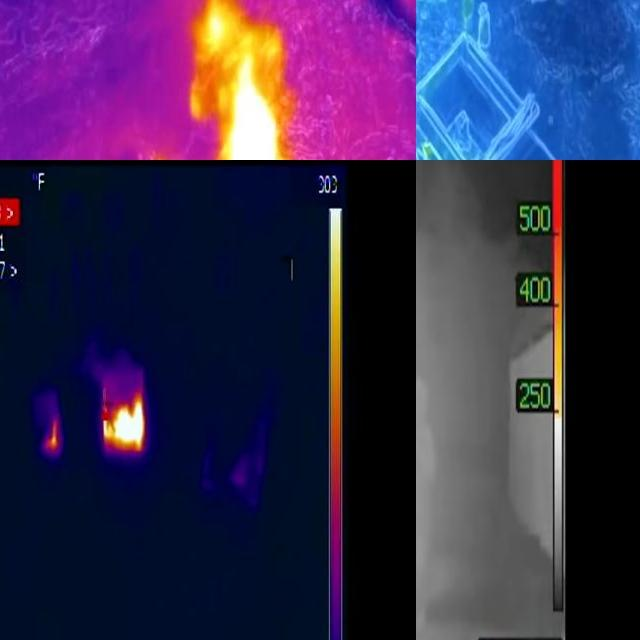fire: (206, 49, 307, 161), (103, 383, 147, 454), (44, 416, 61, 454)
